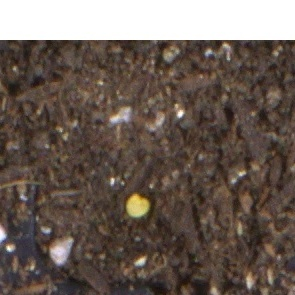chilli seed: (123, 192, 152, 218)
